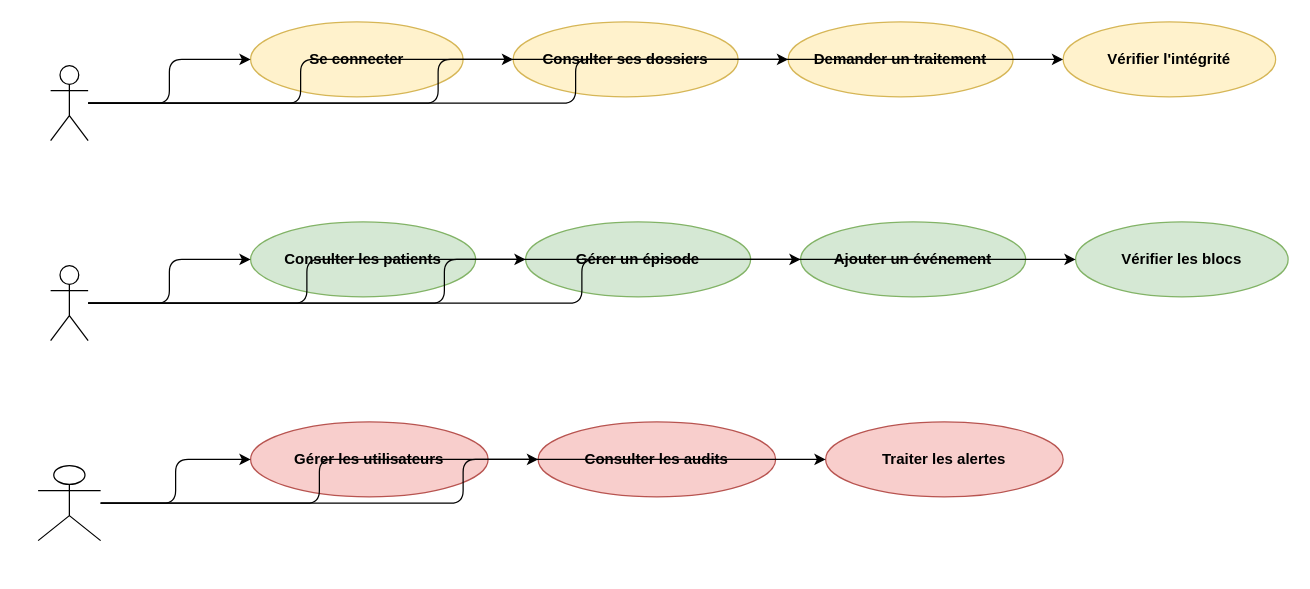
Some shapes in this 1310 by 589 pixel diagram are drawn without their labels. The centre of each missing label's shape, as x and y in pixels:
Administrateur: [69,502]
Médecin: [68,302]
Patient: [68,102]
